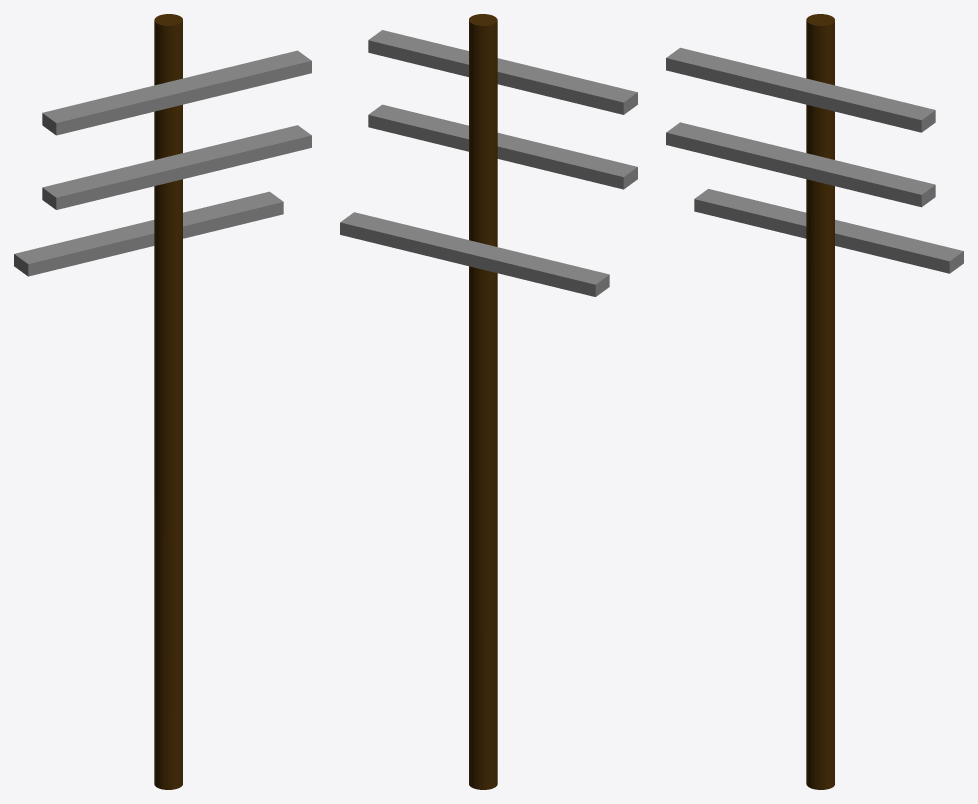
The model's file is power_line_09.glb.
3 renders of one model, left to right at view 1: azimuth 30°, elevation 25°; view 2: azimuth 150°, elevation 25°; view 3: azimuth 330°, elevation 25°, orthographic.
Visible parts, largest first — view 1: PowerLine09; view 2: PowerLine09; view 3: PowerLine09.
Boxes of the visible parts, x1=… form: PowerLine09: x1=14, y1=14, x2=311, y2=789; PowerLine09: x1=340, y1=14, x2=637, y2=789; PowerLine09: x1=666, y1=14, x2=963, y2=789.
Bounding box in the file's own units: 7 × 20 × 2.
